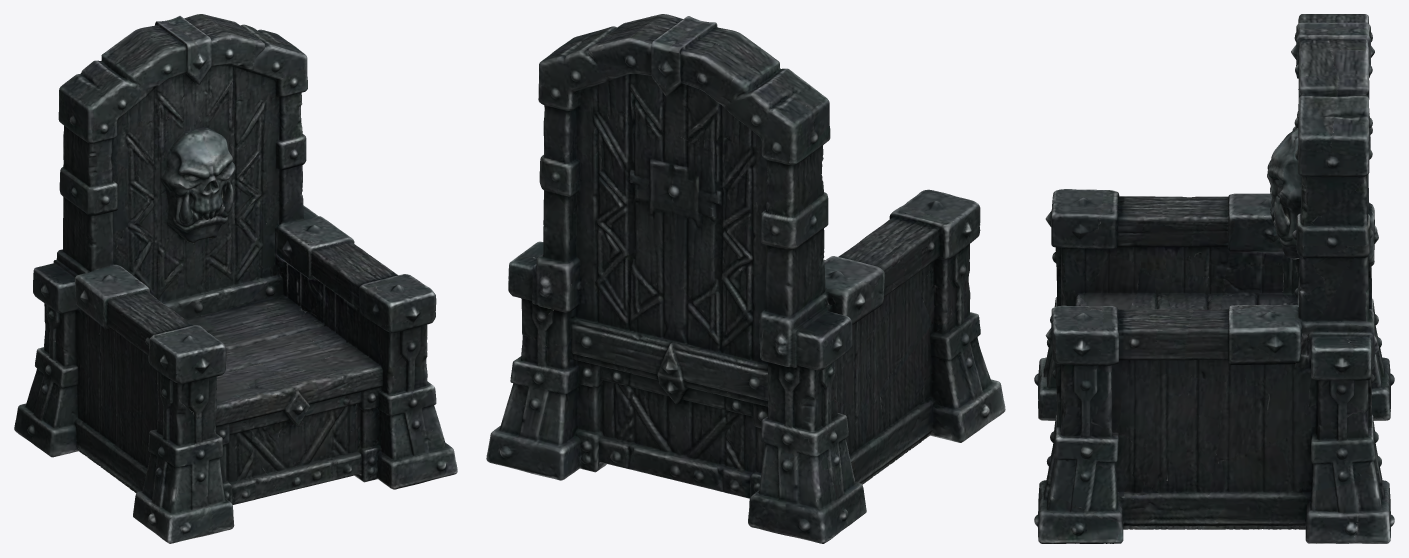
The model's file is iron chair.glb.
The picture shows the model from 3 angles, left to right: view 1: azimuth 30°, elevation 25°; view 2: azimuth 150°, elevation 25°; view 3: azimuth 270°, elevation 25°; orthographic projection. The views are drawn at different scales.
Bounding box in the file's own units: 1.52 × 1.9 × 1.42.
1 material, 1 textured.
